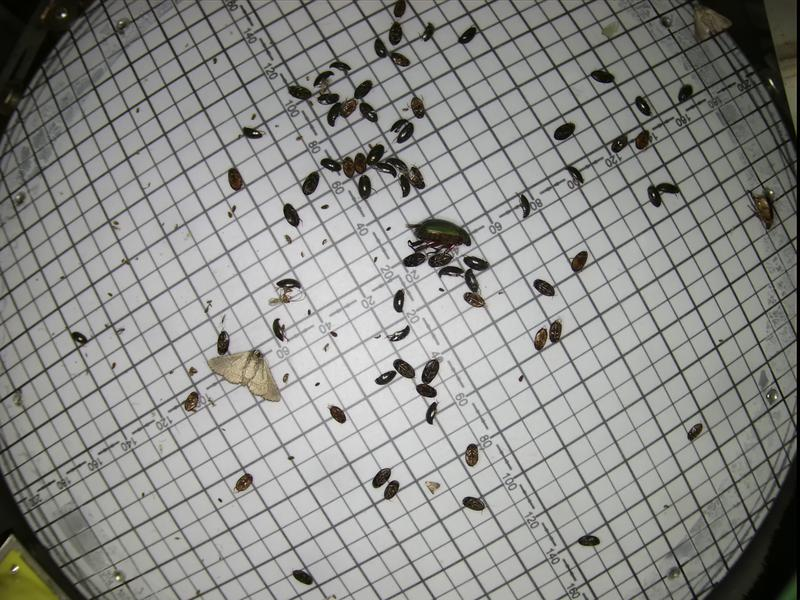Anomala corpulenta: (741, 182, 776, 229)
Spodoptera litura: (691, 0, 733, 40)
